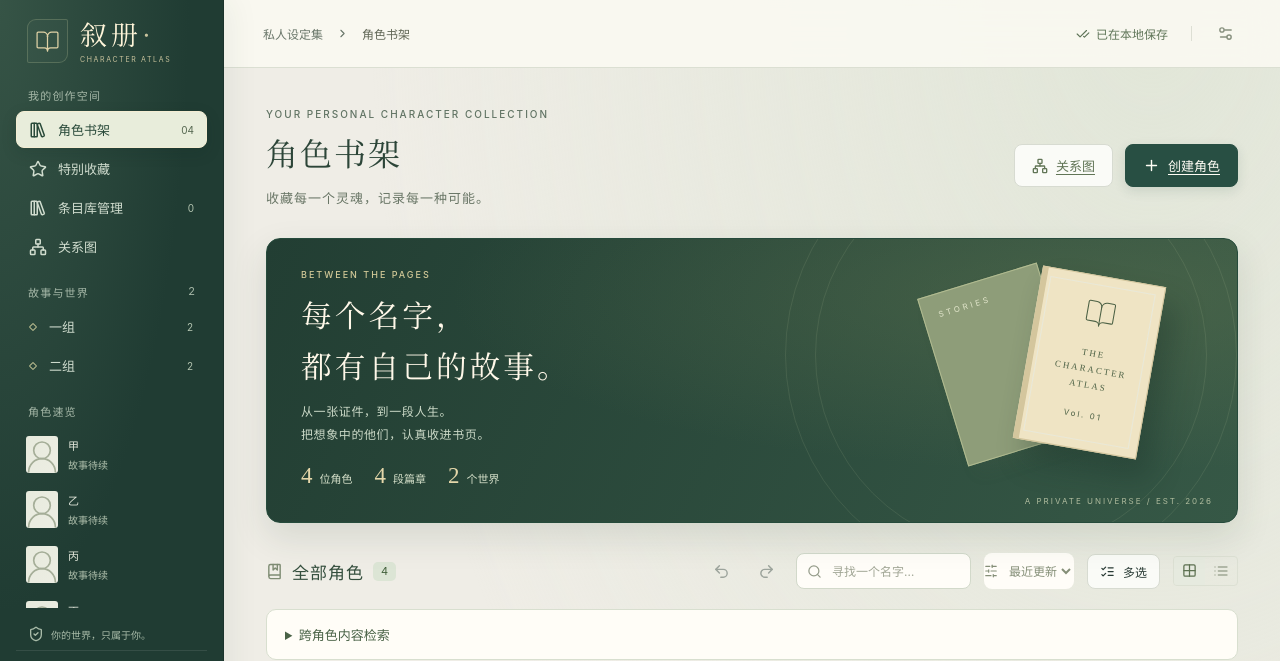
Test: 导出所选 Markdown 打开整库同款选项，标题显示所选数量
Click the button "多选": point(1124, 571) left=1087, top=554, right=1160, bottom=589
(page scrolled)
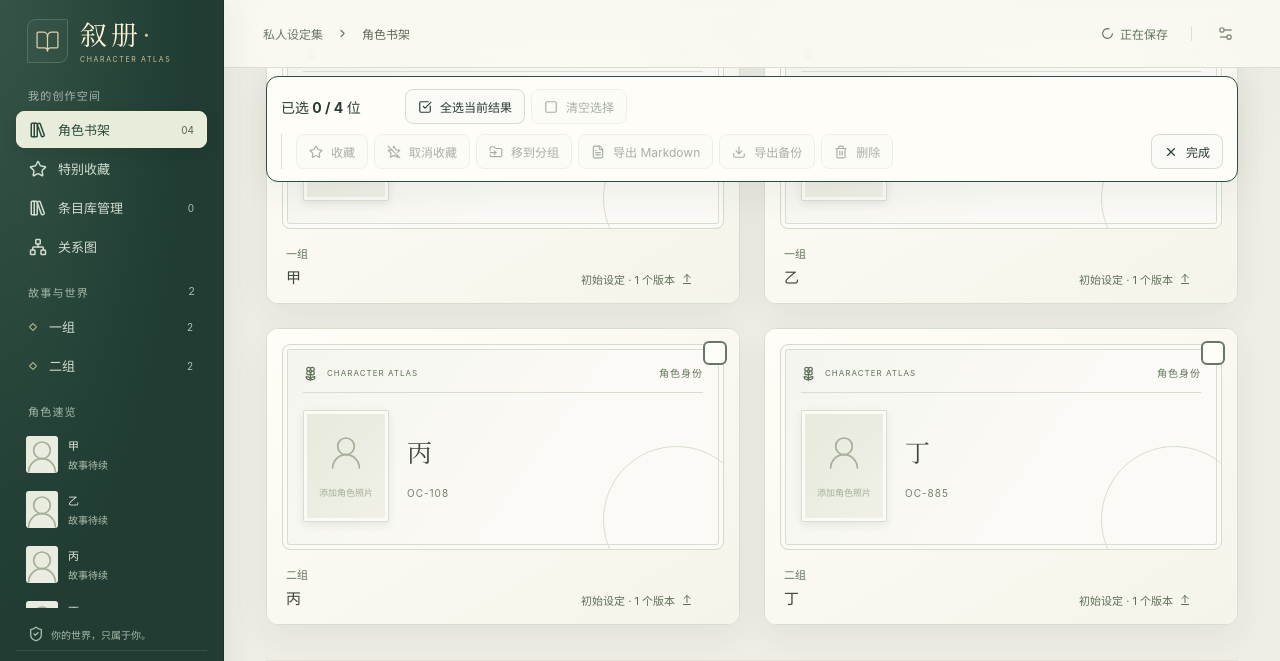
Click the button "CHARACTER ATLAS 角色身份 添加角色照片 丙 OC-108 二组 丙 初始设定 · 1 个版本": point(503, 477) left=267, top=329, right=739, bottom=624
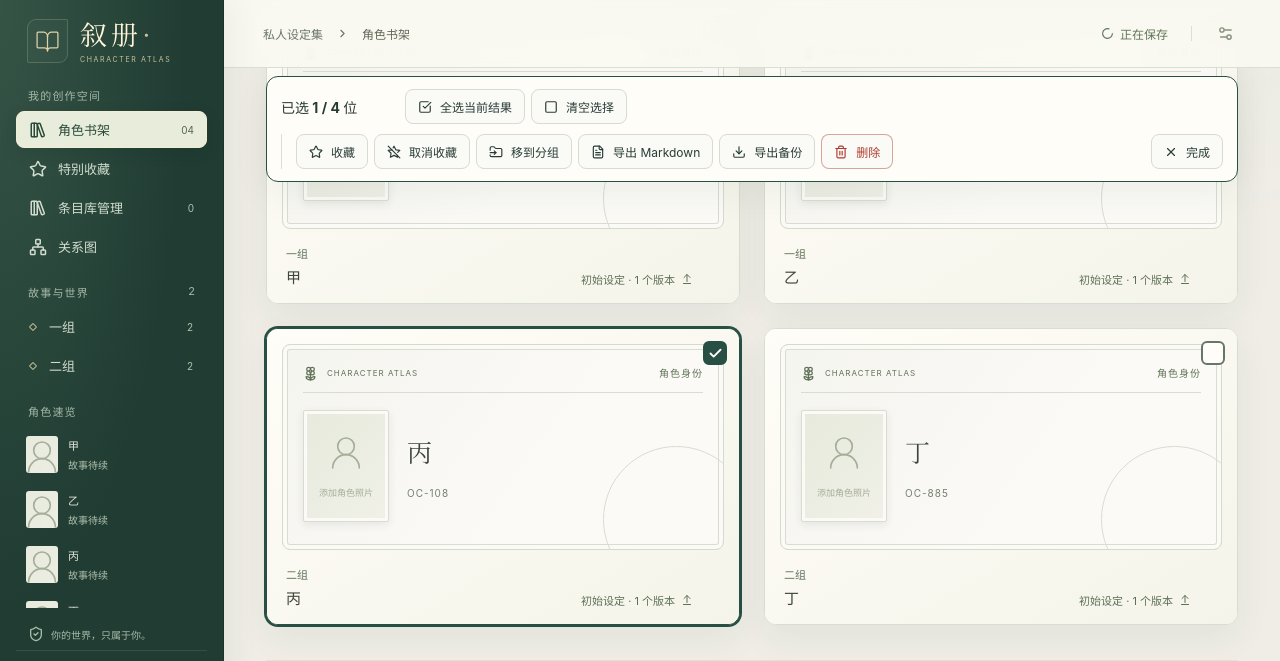
Click the button "导出 Markdown": point(646, 152) left=578, top=134, right=713, bottom=169
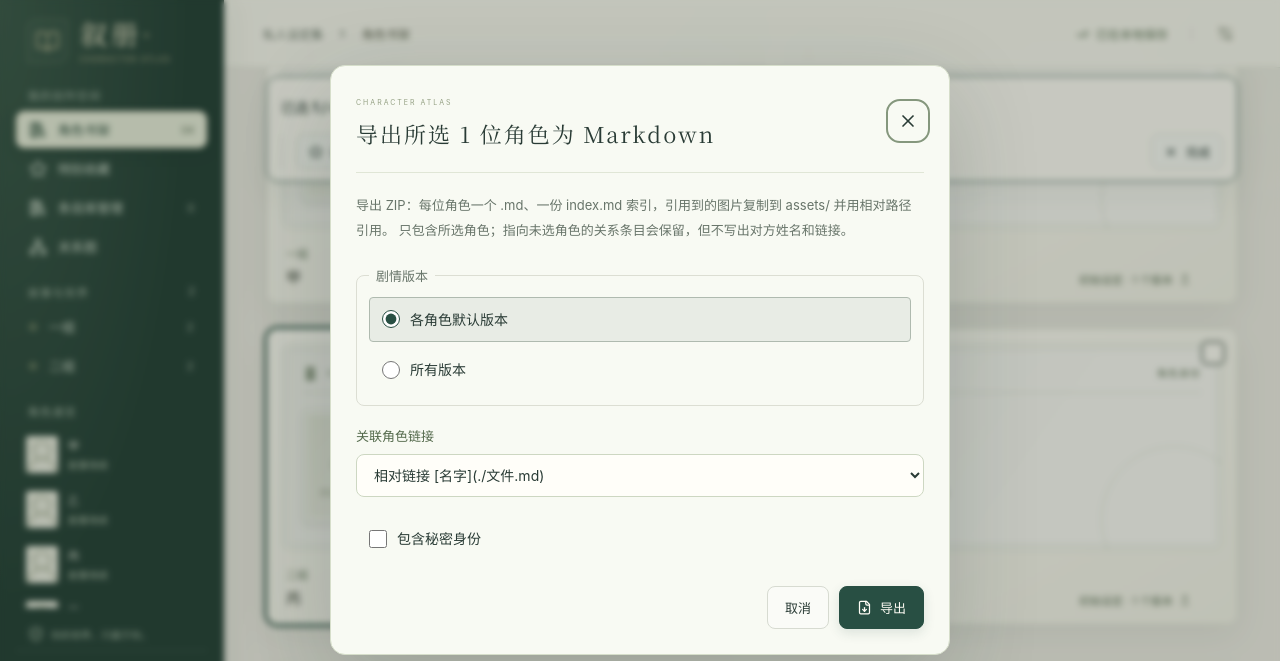
Result: the checkbox labelled "包含秘密身份" is not checked at left=369, top=530, right=387, bottom=548
Result: the text "关联角色链接" is shown at left=356, top=428, right=434, bottom=444
